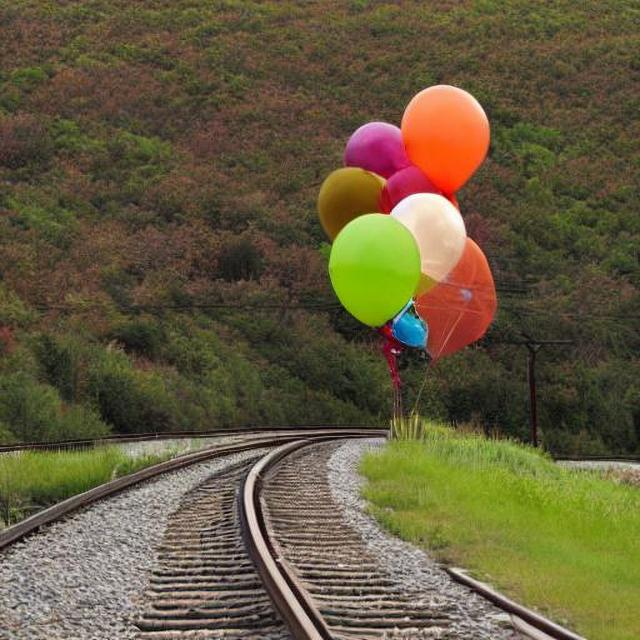balloon: (308, 84, 492, 380)
